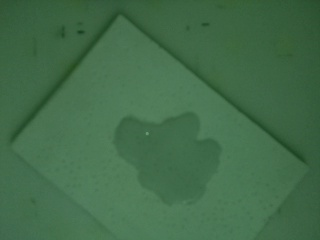Water_detected: (131, 128, 212, 189)
